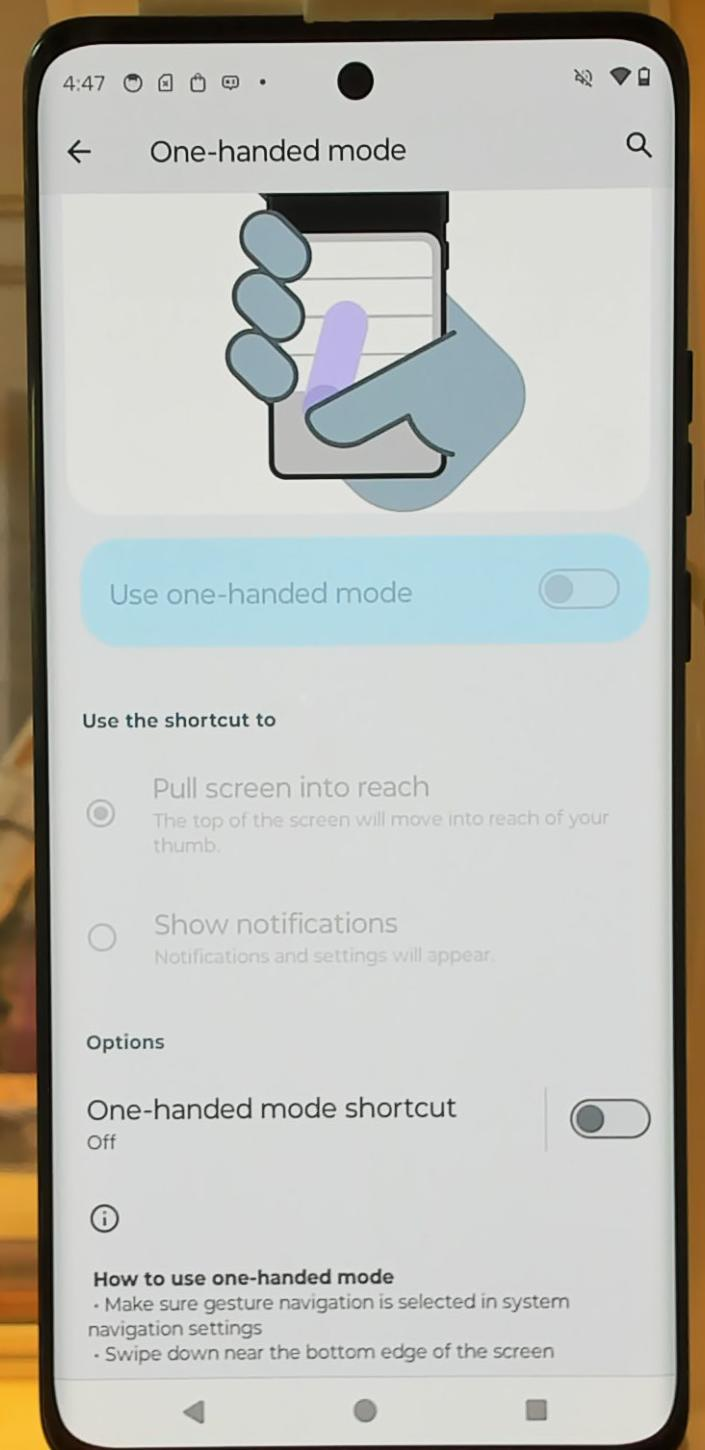Checkbox: (77, 1087, 654, 1165), (101, 565, 628, 620)
